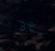three: (19, 20, 26, 31)
two: (27, 20, 34, 30)
